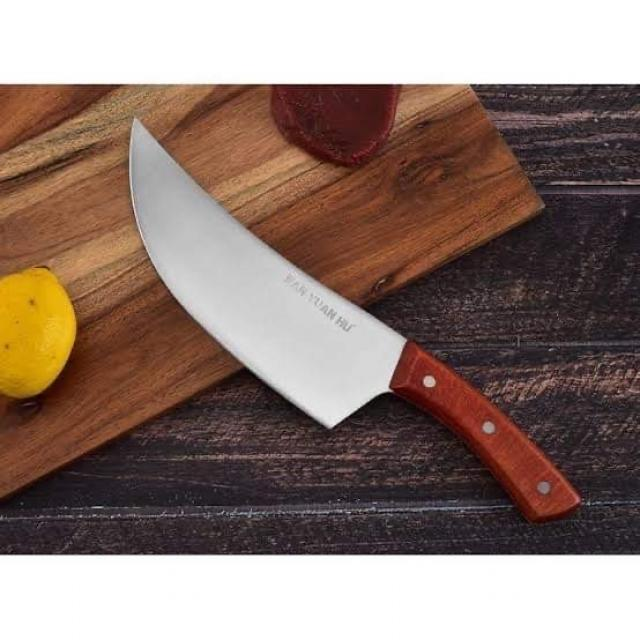Knife: (117, 109, 584, 536)
